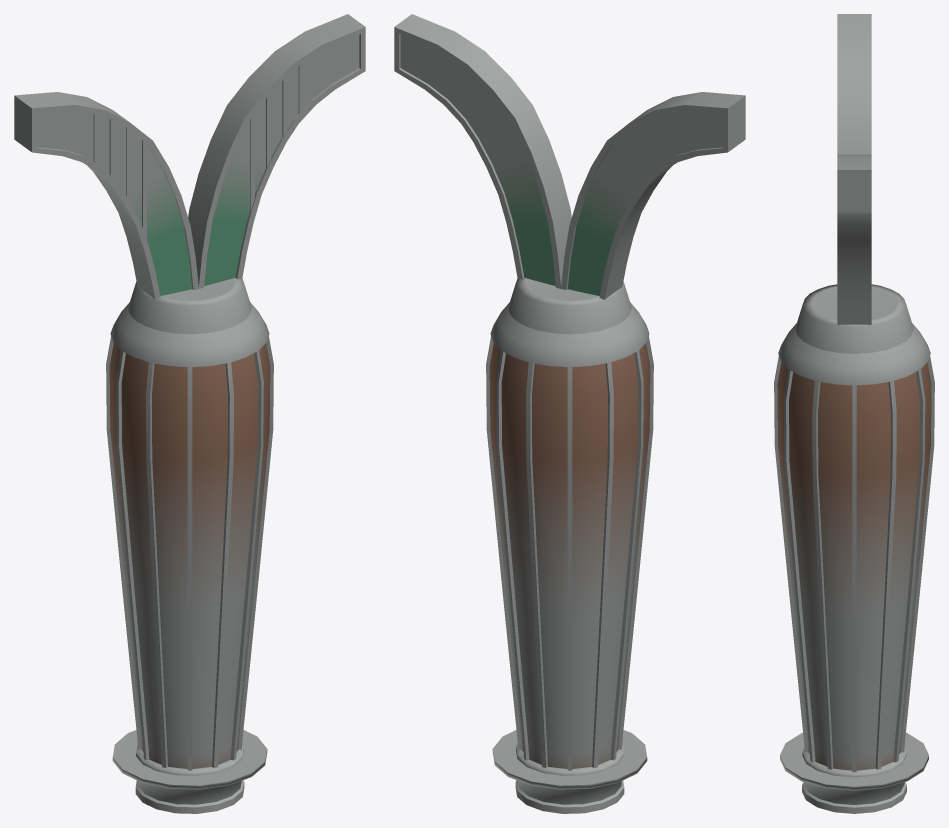
3 renders of one model, left to right at view 1: azimuth 30°, elevation 25°; view 2: azimuth 150°, elevation 25°; view 3: azimuth 270°, elevation 25°, orthographic. The views are drawn at different scales.
Visible parts, largest first — view 1: G:\FFXIV-MapTools\exports\u5f1\bg\ex4\04_uvs_u5\fld\u5f1\bgp (×4); view 2: G:\FFXIV-MapTools\exports\u5f1\bg\ex4\04_uvs_u5\fld\u5f1\bgp (×4); view 3: G:\FFXIV-MapTools\exports\u5f1\bg\ex4\04_uvs_u5\fld\u5f1\bgp (×3).
Part boxes in pixels (x1,y1,x2,y2): G:\FFXIV-MapTools\exports\u5f1\bg\ex4\04_uvs_u5\fld\u5f1\bgp (×4): (14,14,365,813); G:\FFXIV-MapTools\exports\u5f1\bg\ex4\04_uvs_u5\fld\u5f1\bgp (×4): (394,14,745,813); G:\FFXIV-MapTools\exports\u5f1\bg\ex4\04_uvs_u5\fld\u5f1\bgp (×3): (774,14,934,813).
Size of the model in its own units: 6.19 by 12.93 by 2.69.
